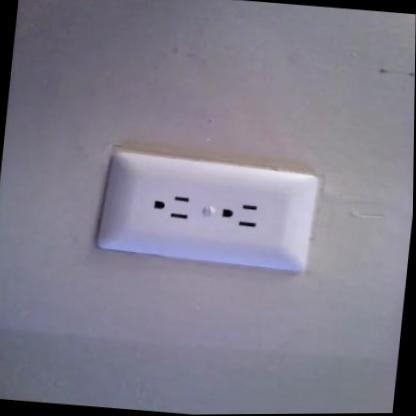OUTLET: (98, 154, 316, 268)
